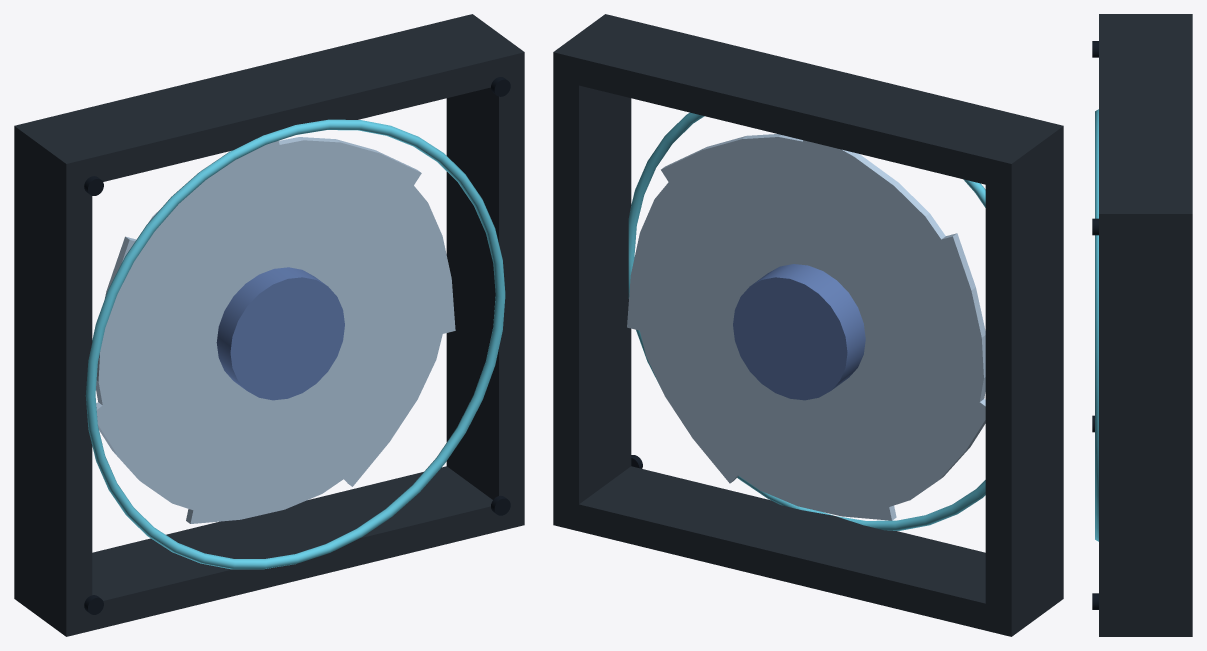
The model's file is retail-lian-li-uni-fan-tl-140-lcd-wireless-black.glb.
3 views of the same model, side by side, from view 1: azimuth 30°, elevation 25°; view 2: azimuth 150°, elevation 25°; view 3: azimuth 270°, elevation 25° (orthographic). The views are drawn at different scales.
Parts seen in each view (by area): view 1: Frame edge (×4), Blade (×7), Intake rim, Motor hub; view 2: Frame edge (×4), Blade (×7), Motor hub, Intake rim; view 3: Frame edge (×3), Intake rim.
Part boxes in pixels (x1=…): Frame edge (×4): x1=14, y1=14, x2=524, y2=636; Blade (×7): x1=96, y1=137, x2=455, y2=523; Intake rim: x1=85, y1=119, x2=505, y2=569; Motor hub: x1=216, y1=267, x2=344, y2=400; Frame edge (×4): x1=553, y1=14, x2=1063, y2=636; Blade (×7): x1=627, y1=134, x2=985, y2=520; Motor hub: x1=733, y1=264, x2=865, y2=400; Intake rim: x1=628, y1=112, x2=985, y2=530; Frame edge (×3): x1=1099, y1=14, x2=1192, y2=636; Intake rim: x1=1095, y1=109, x2=1098, y2=541.
Bounding box in the file's own units: 0.142 × 0.14 × 0.03.
